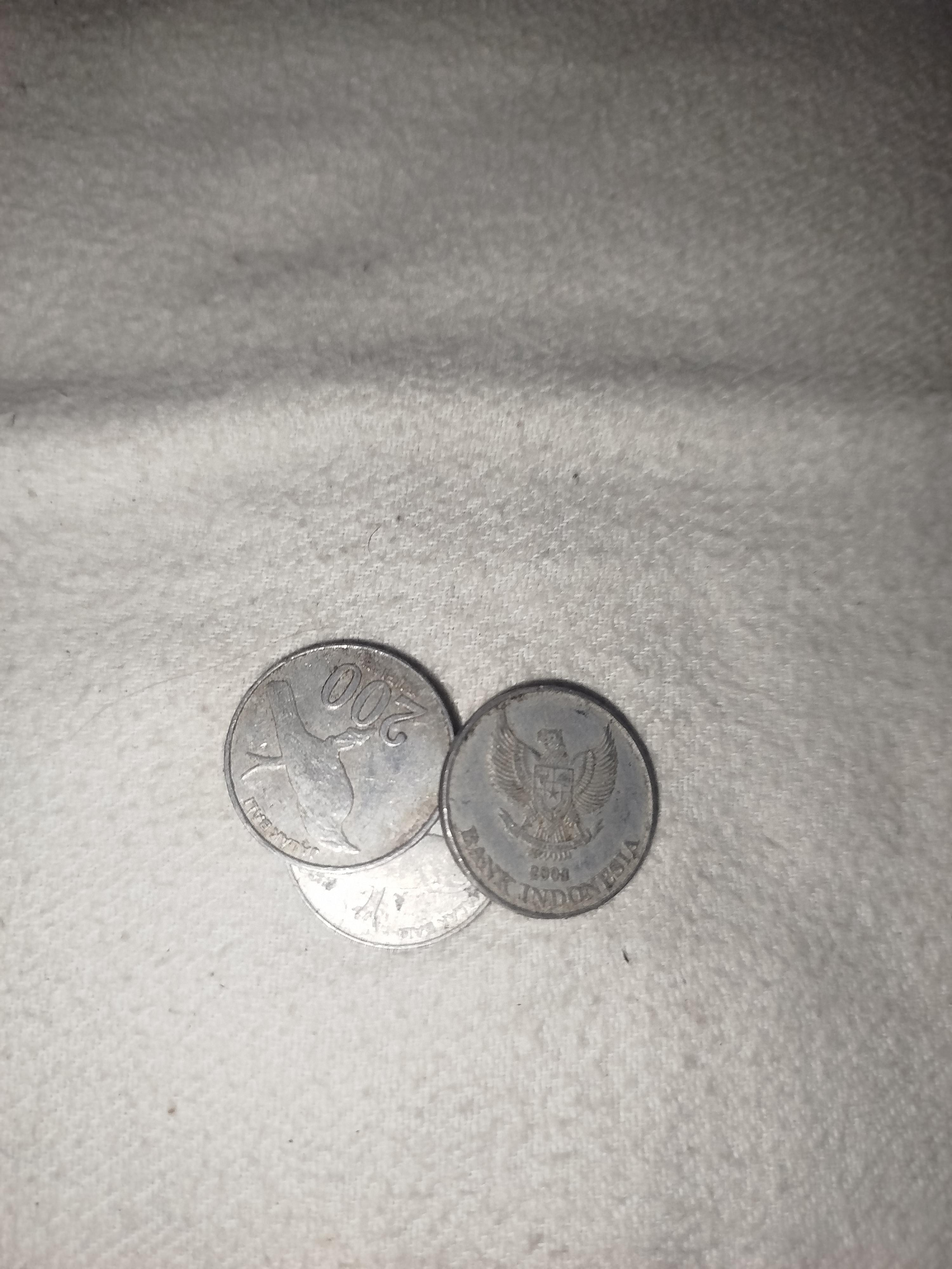coin_200_e2003: (217, 638, 463, 871), (443, 671, 665, 925), (274, 849, 525, 943)
